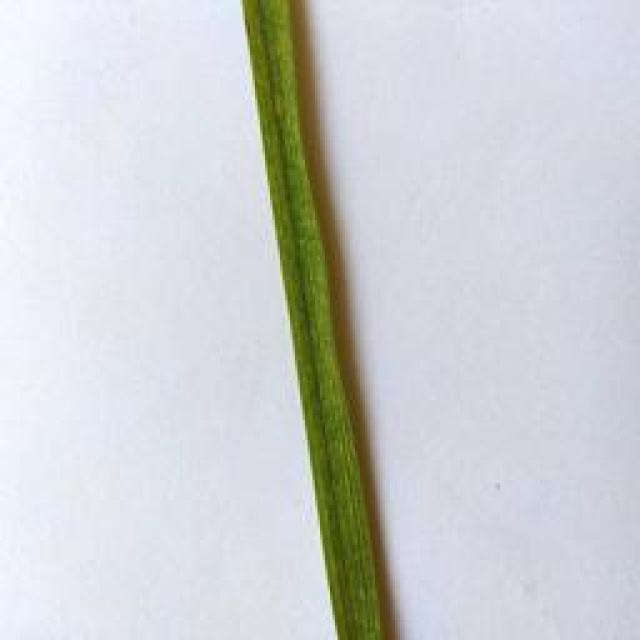Healthy-Plant: (242, 0, 387, 640)
